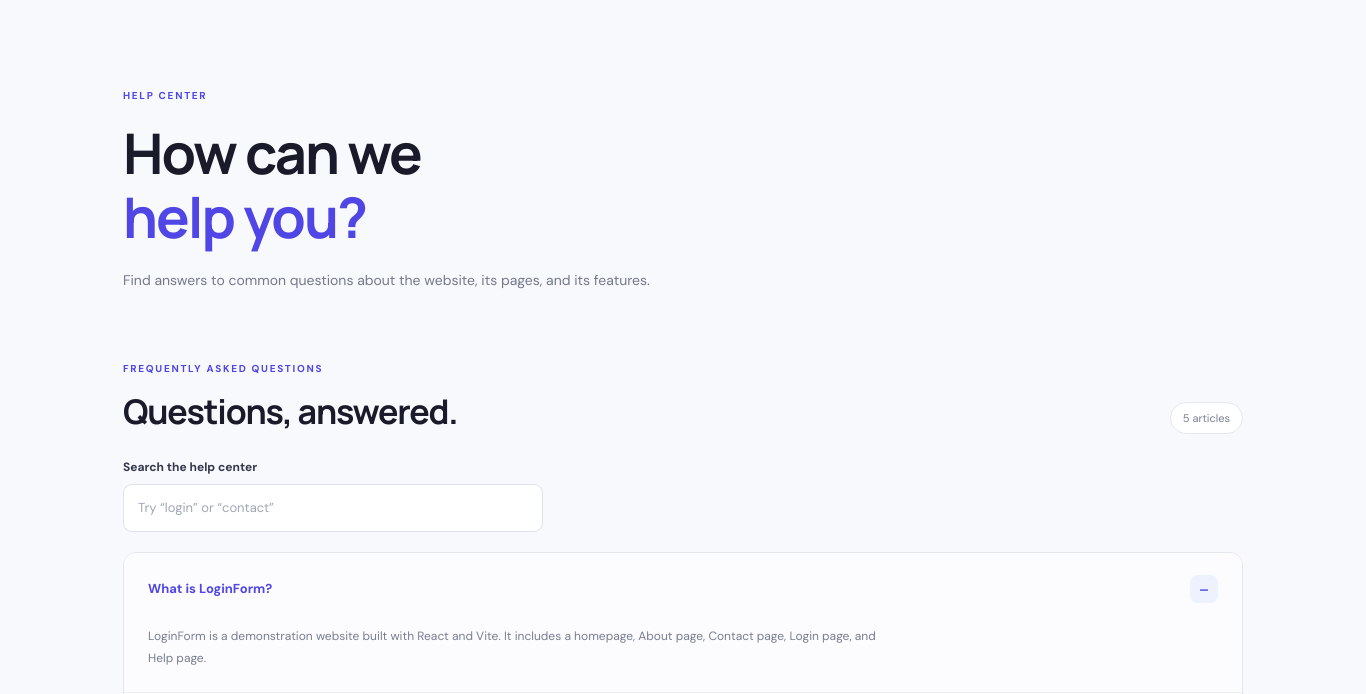
it: Help page › shows an empty state when nothing matches
This screenshot has width=1366, height=694.
In the search field labelled "Search the help center": (333, 508) [123, 484, 543, 532], type "zzzzz"
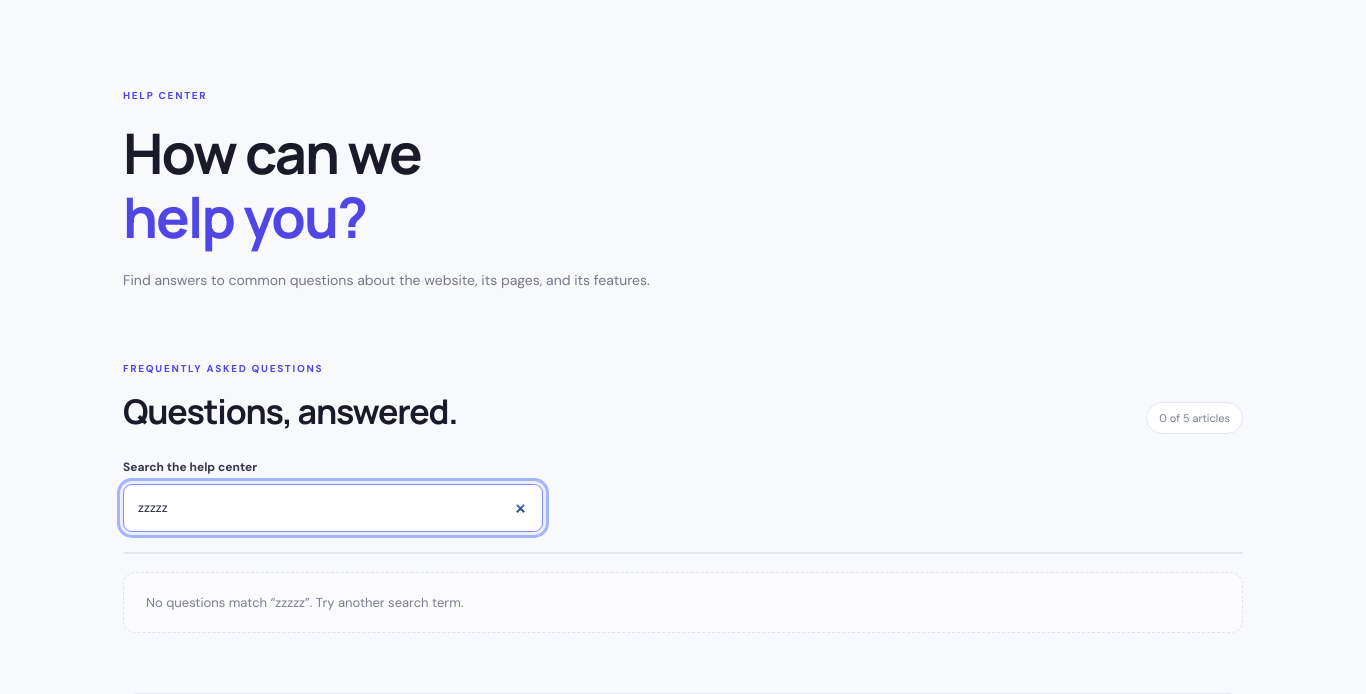
Check: the message shows "No questions match", box [146, 594, 275, 611]
Check: the button "LoginForm" is gone
